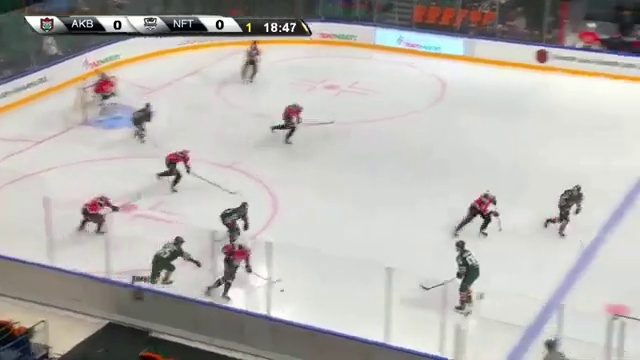gates: (446, 241, 490, 302), (149, 235, 192, 278), (219, 198, 255, 249), (123, 96, 160, 144), (549, 182, 587, 227)
referee: (85, 84, 126, 125)
team_1: (240, 42, 263, 88)
team_2: (97, 187, 141, 244), (216, 234, 256, 289), (86, 72, 130, 112), (465, 190, 507, 231), (276, 98, 306, 146), (159, 146, 193, 188)
